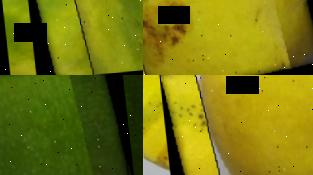PartiallyRipe: (23, 0, 143, 75)
Ripe: (161, 75, 313, 175), (143, 0, 313, 75)
Unripe: (0, 75, 133, 175)
